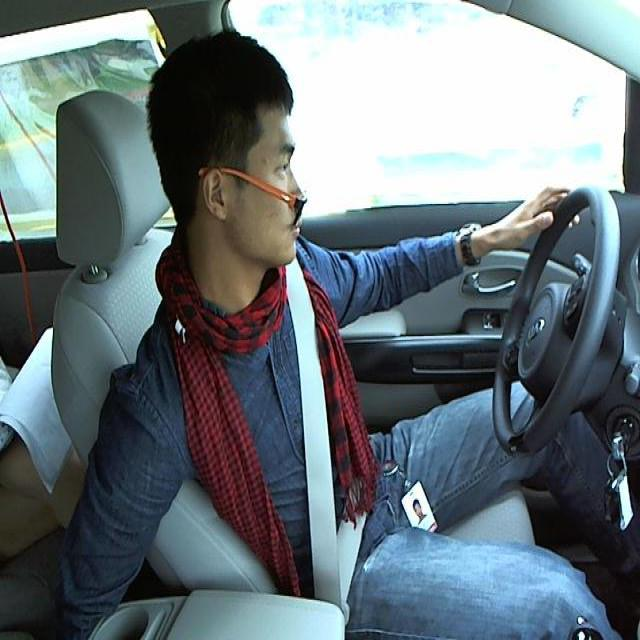seatbelt: (285, 297, 367, 592)
